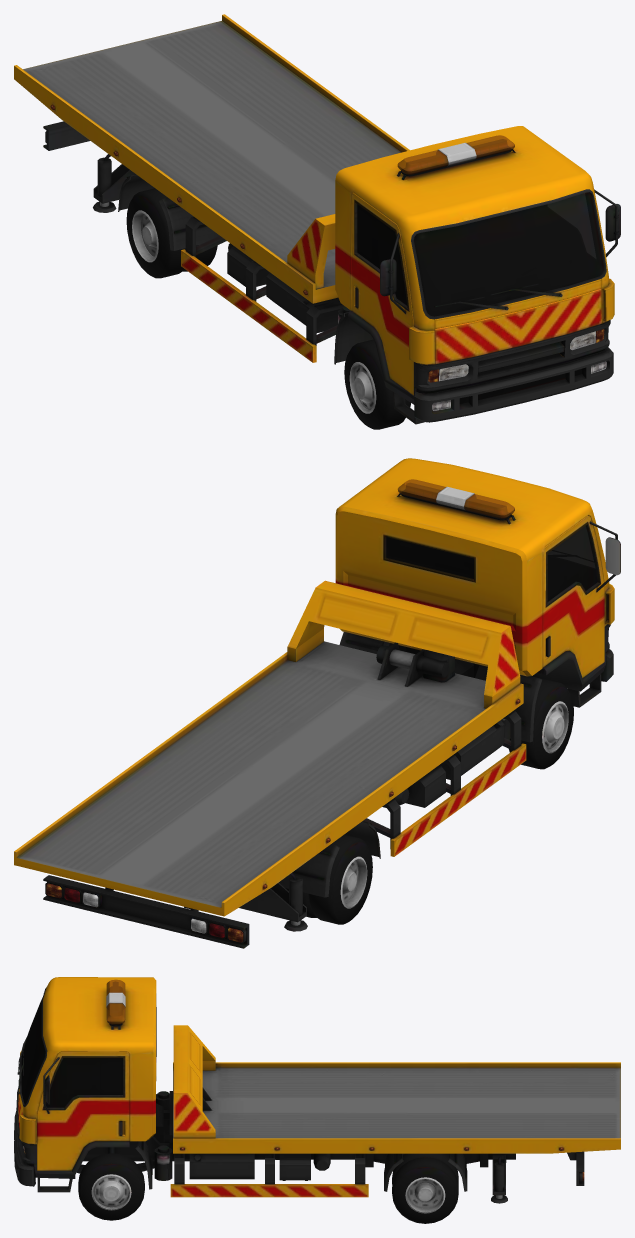
The model's file is towtruck.glb.
3 views of the same model, one above another, from view 1: azimuth 30°, elevation 25°; view 2: azimuth 150°, elevation 25°; view 3: azimuth 270°, elevation 25° (orthographic). The views are drawn at different scales.
Visible parts, largest first — view 1: towtruck_towtruck_0, towtruck_towtruck_glass_0 (×2), towtruck_optics_tex_0; view 2: towtruck_towtruck_0, towtruck_towtruck_glass_0 (×2), towtruck_optics_tex_0; view 3: towtruck_towtruck_0, towtruck_towtruck_glass_0 (×2).
Boxes of the visible parts, x1,y1,x2,y2 form: towtruck_towtruck_0: (14,14,620,429); towtruck_towtruck_glass_0 (×2): (357,135,603,316); towtruck_optics_tex_0: (50,105,606,410); towtruck_towtruck_0: (14,458,620,948); towtruck_towtruck_glass_0 (×2): (386,479,597,601); towtruck_optics_tex_0: (46,486,520,942); towtruck_towtruck_0: (14,977,620,1223); towtruck_towtruck_glass_0 (×2): (21,979,125,1107).
Size of the model in its own units: 2.38 by 2.39 by 6.94.
4 materials, 4 textured.
